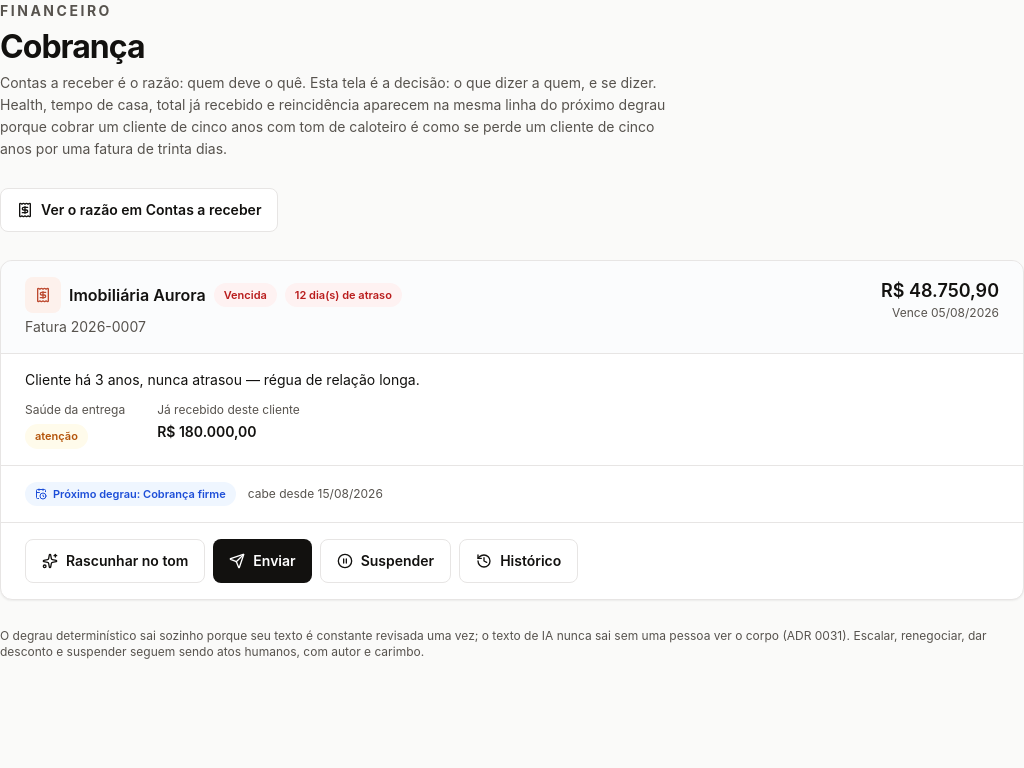
Scenario: nunca envia sem alguém ver o corpo: o botão abre o texto, não a rota
Step 1. Click the button with aria-label "Enviar cobrança" → [262, 561], box left=213, top=539, right=312, bottom=583
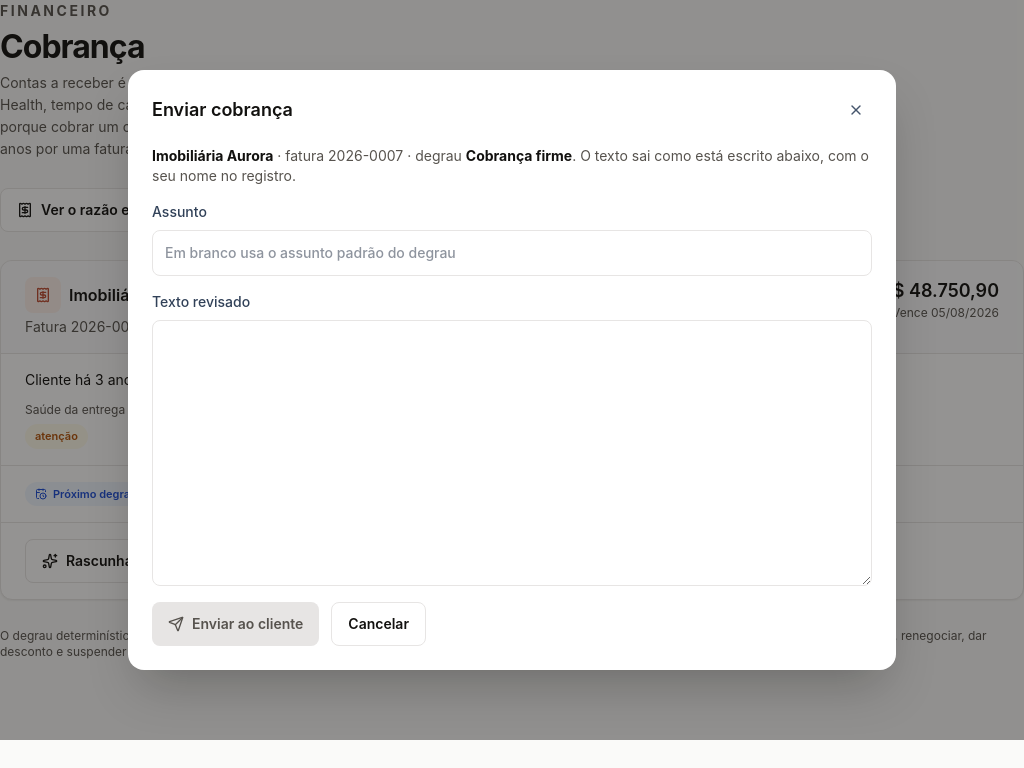
Now the text box labelled "Texto revisado" is shown, box left=152, top=320, right=872, bottom=586
